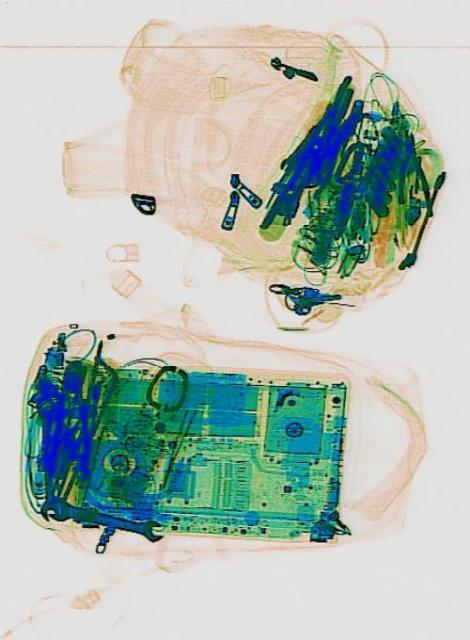Wrench: (49, 495, 162, 543), (34, 393, 57, 522)
